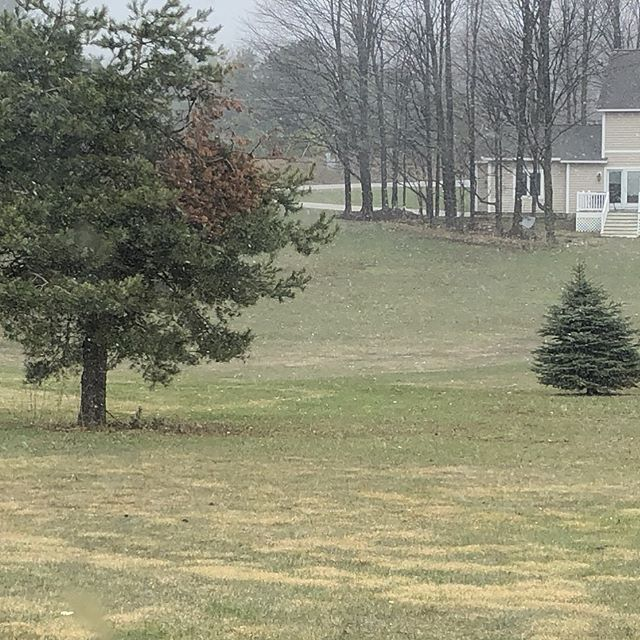building: (489, 75, 640, 244)
grass: (15, 422, 640, 640), (287, 218, 523, 417)
tree: (1, 1, 282, 411), (496, 1, 599, 251), (319, 1, 428, 214), (427, 1, 509, 244), (527, 265, 640, 403)
